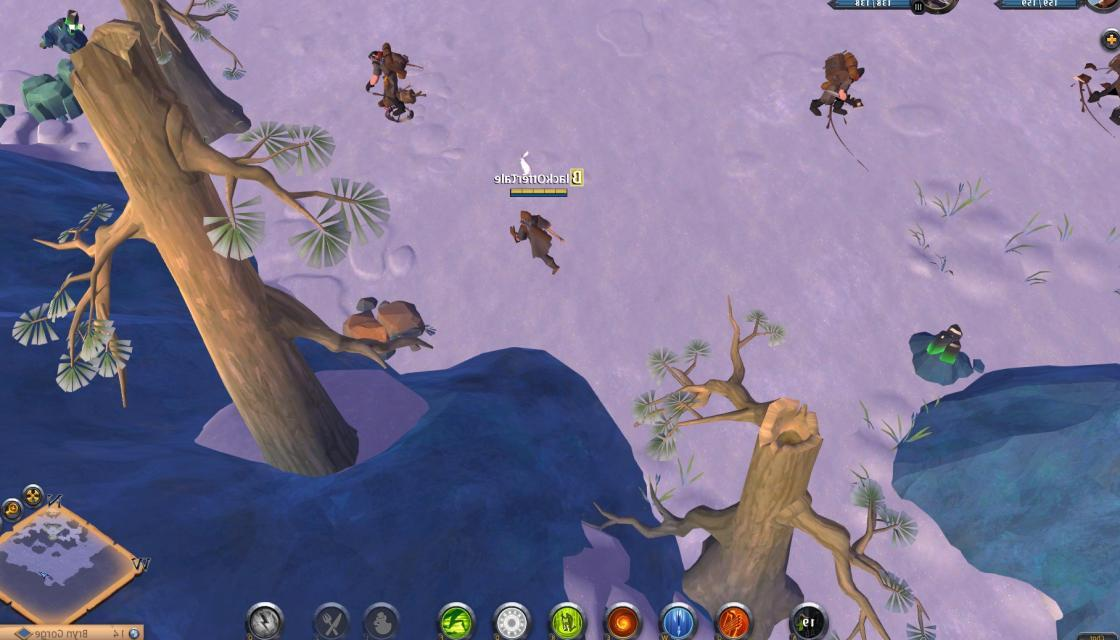limestone: (328, 294, 429, 354)
sandstone: (20, 58, 84, 120), (0, 73, 18, 134)
tinore: (912, 321, 976, 381), (40, 6, 88, 48)
